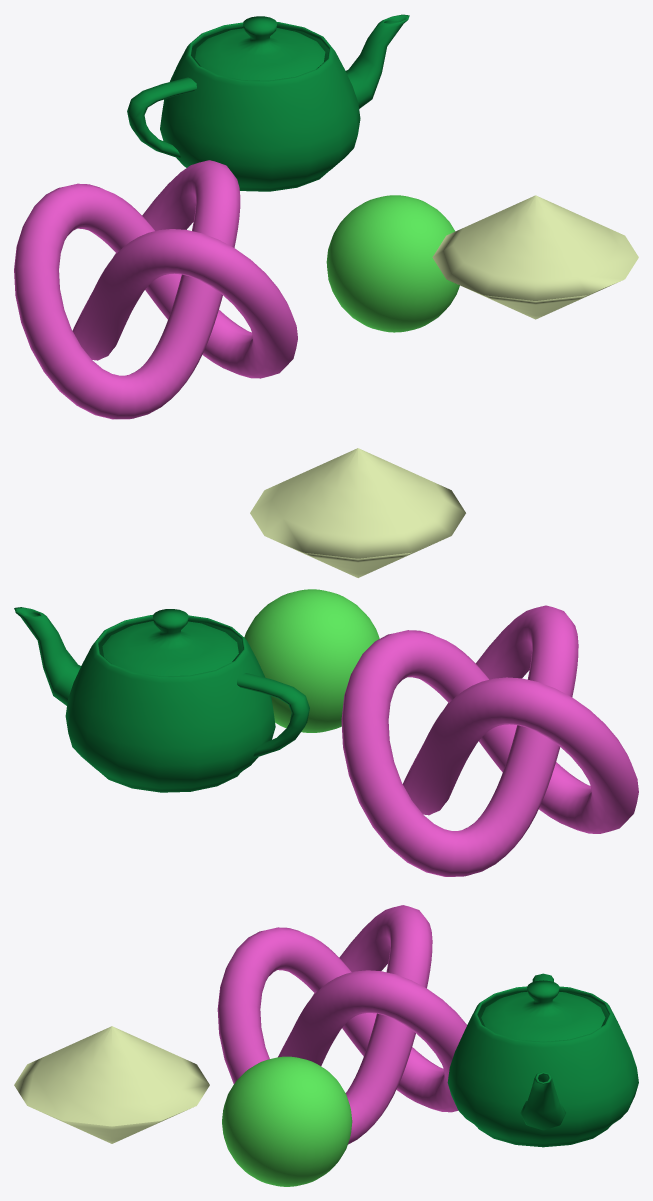
The picture shows the model from 3 angles, top to bottom: view 1: azimuth 30°, elevation 25°; view 2: azimuth 150°, elevation 25°; view 3: azimuth 270°, elevation 25°; orthographic projection. The views are drawn at different scales.
Visible parts, largest first — view 1: Torus_Knot001, Teapot001, Spindle001, Sphere001; view 2: Torus_Knot001, Teapot001, Spindle001, Sphere001; view 3: Torus_Knot001, Teapot001, Spindle001, Sphere001.
Part boxes in pixels (x1=…): Torus_Knot001: x1=14, y1=160, x2=297, y2=419; Teapot001: x1=127, y1=14, x2=409, y2=191; Spindle001: x1=432, y1=195, x2=638, y2=319; Sphere001: x1=326, y1=195, x2=459, y2=332; Torus_Knot001: x1=341, y1=605, x2=638, y2=876; Teapot001: x1=14, y1=607, x2=309, y2=792; Spindle001: x1=250, y1=448, x2=465, y2=577; Sphere001: x1=244, y1=589, x2=379, y2=732; Torus_Knot001: x1=217, y1=905, x2=466, y2=1144; Teapot001: x1=447, y1=973, x2=638, y2=1147; Spindle001: x1=14, y1=1026, x2=209, y2=1143; Sphere001: x1=222, y1=1056, x2=352, y2=1186.
Bounding box in the file's own units: 140 × 65.03 × 164.
